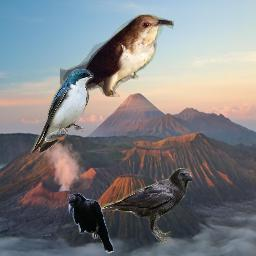Crow: (96, 168, 192, 244), (68, 193, 114, 254)
Cuckoo: (60, 14, 174, 97)
Swallow: (31, 69, 94, 155)
